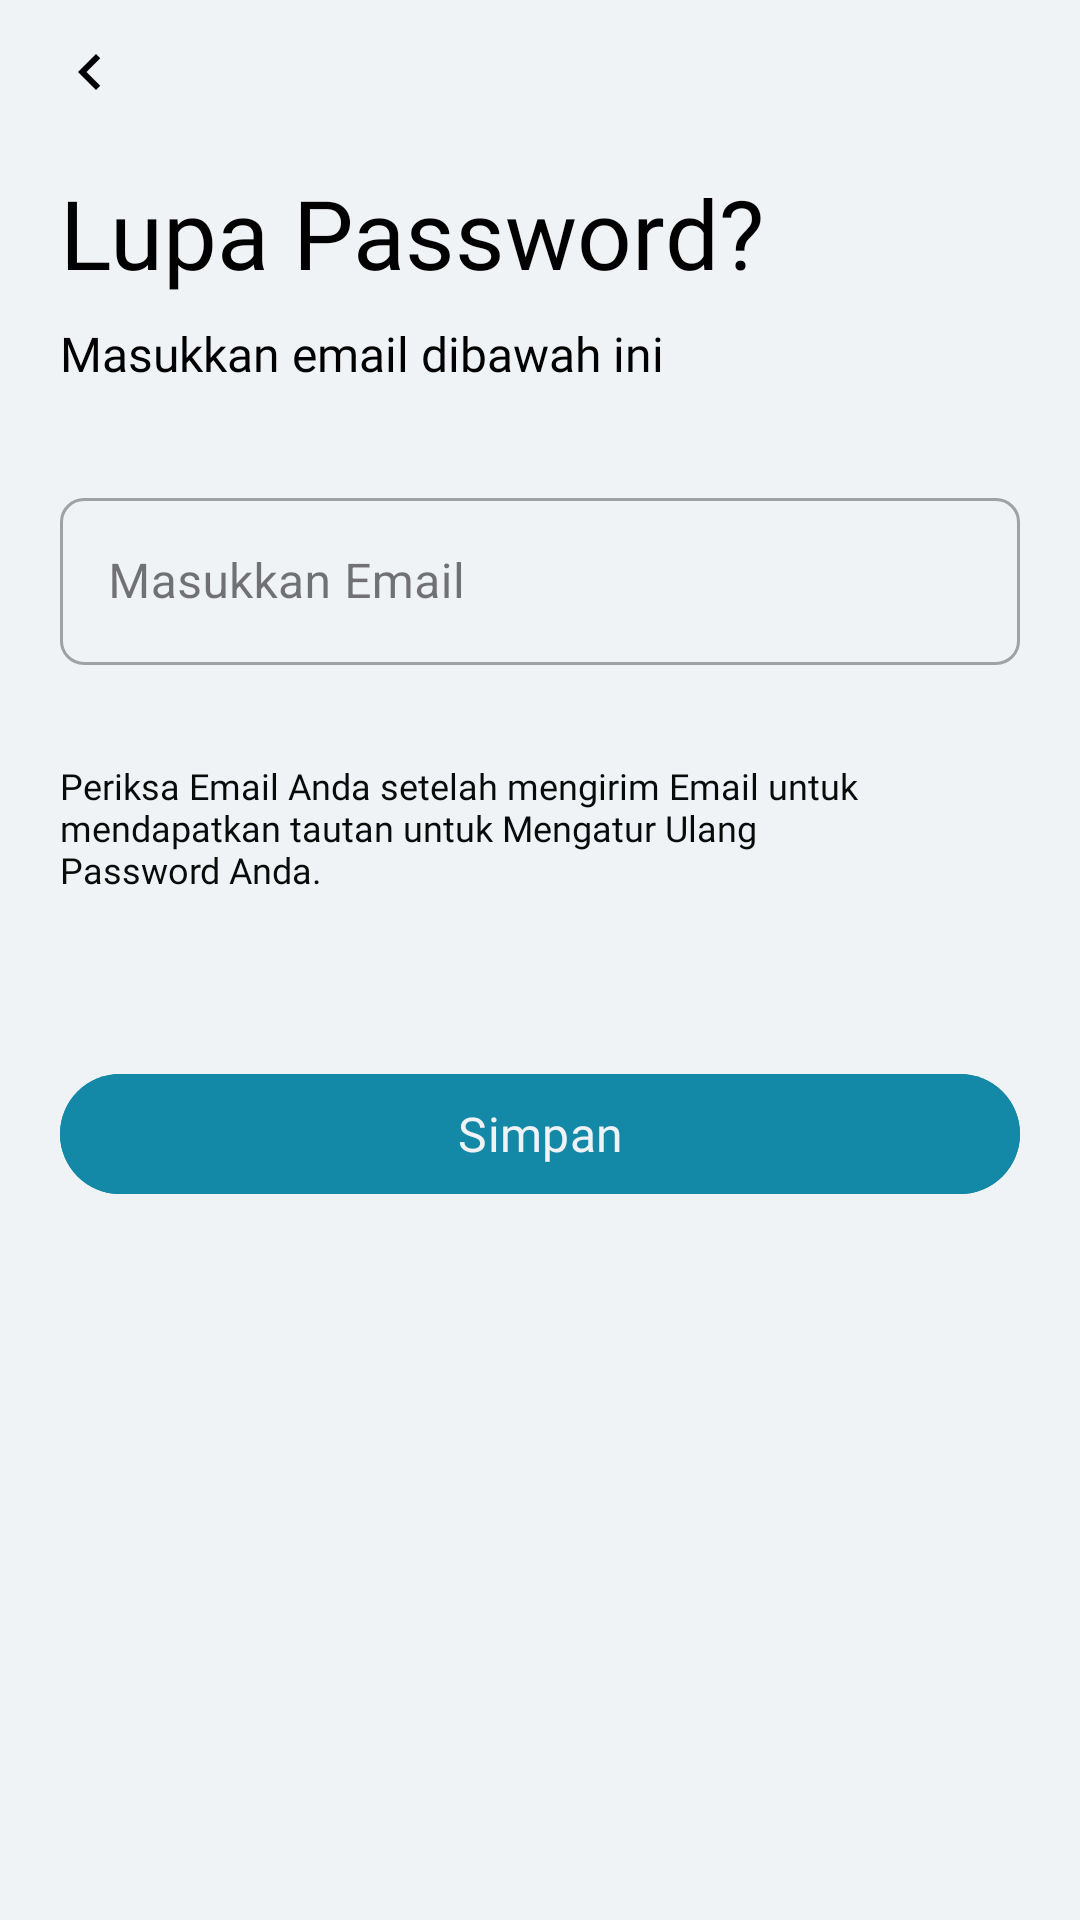

Screen size 1080x1920. Icon name, then its center in pixels as (x=x, y=y):
back left: (x=89, y=72)
